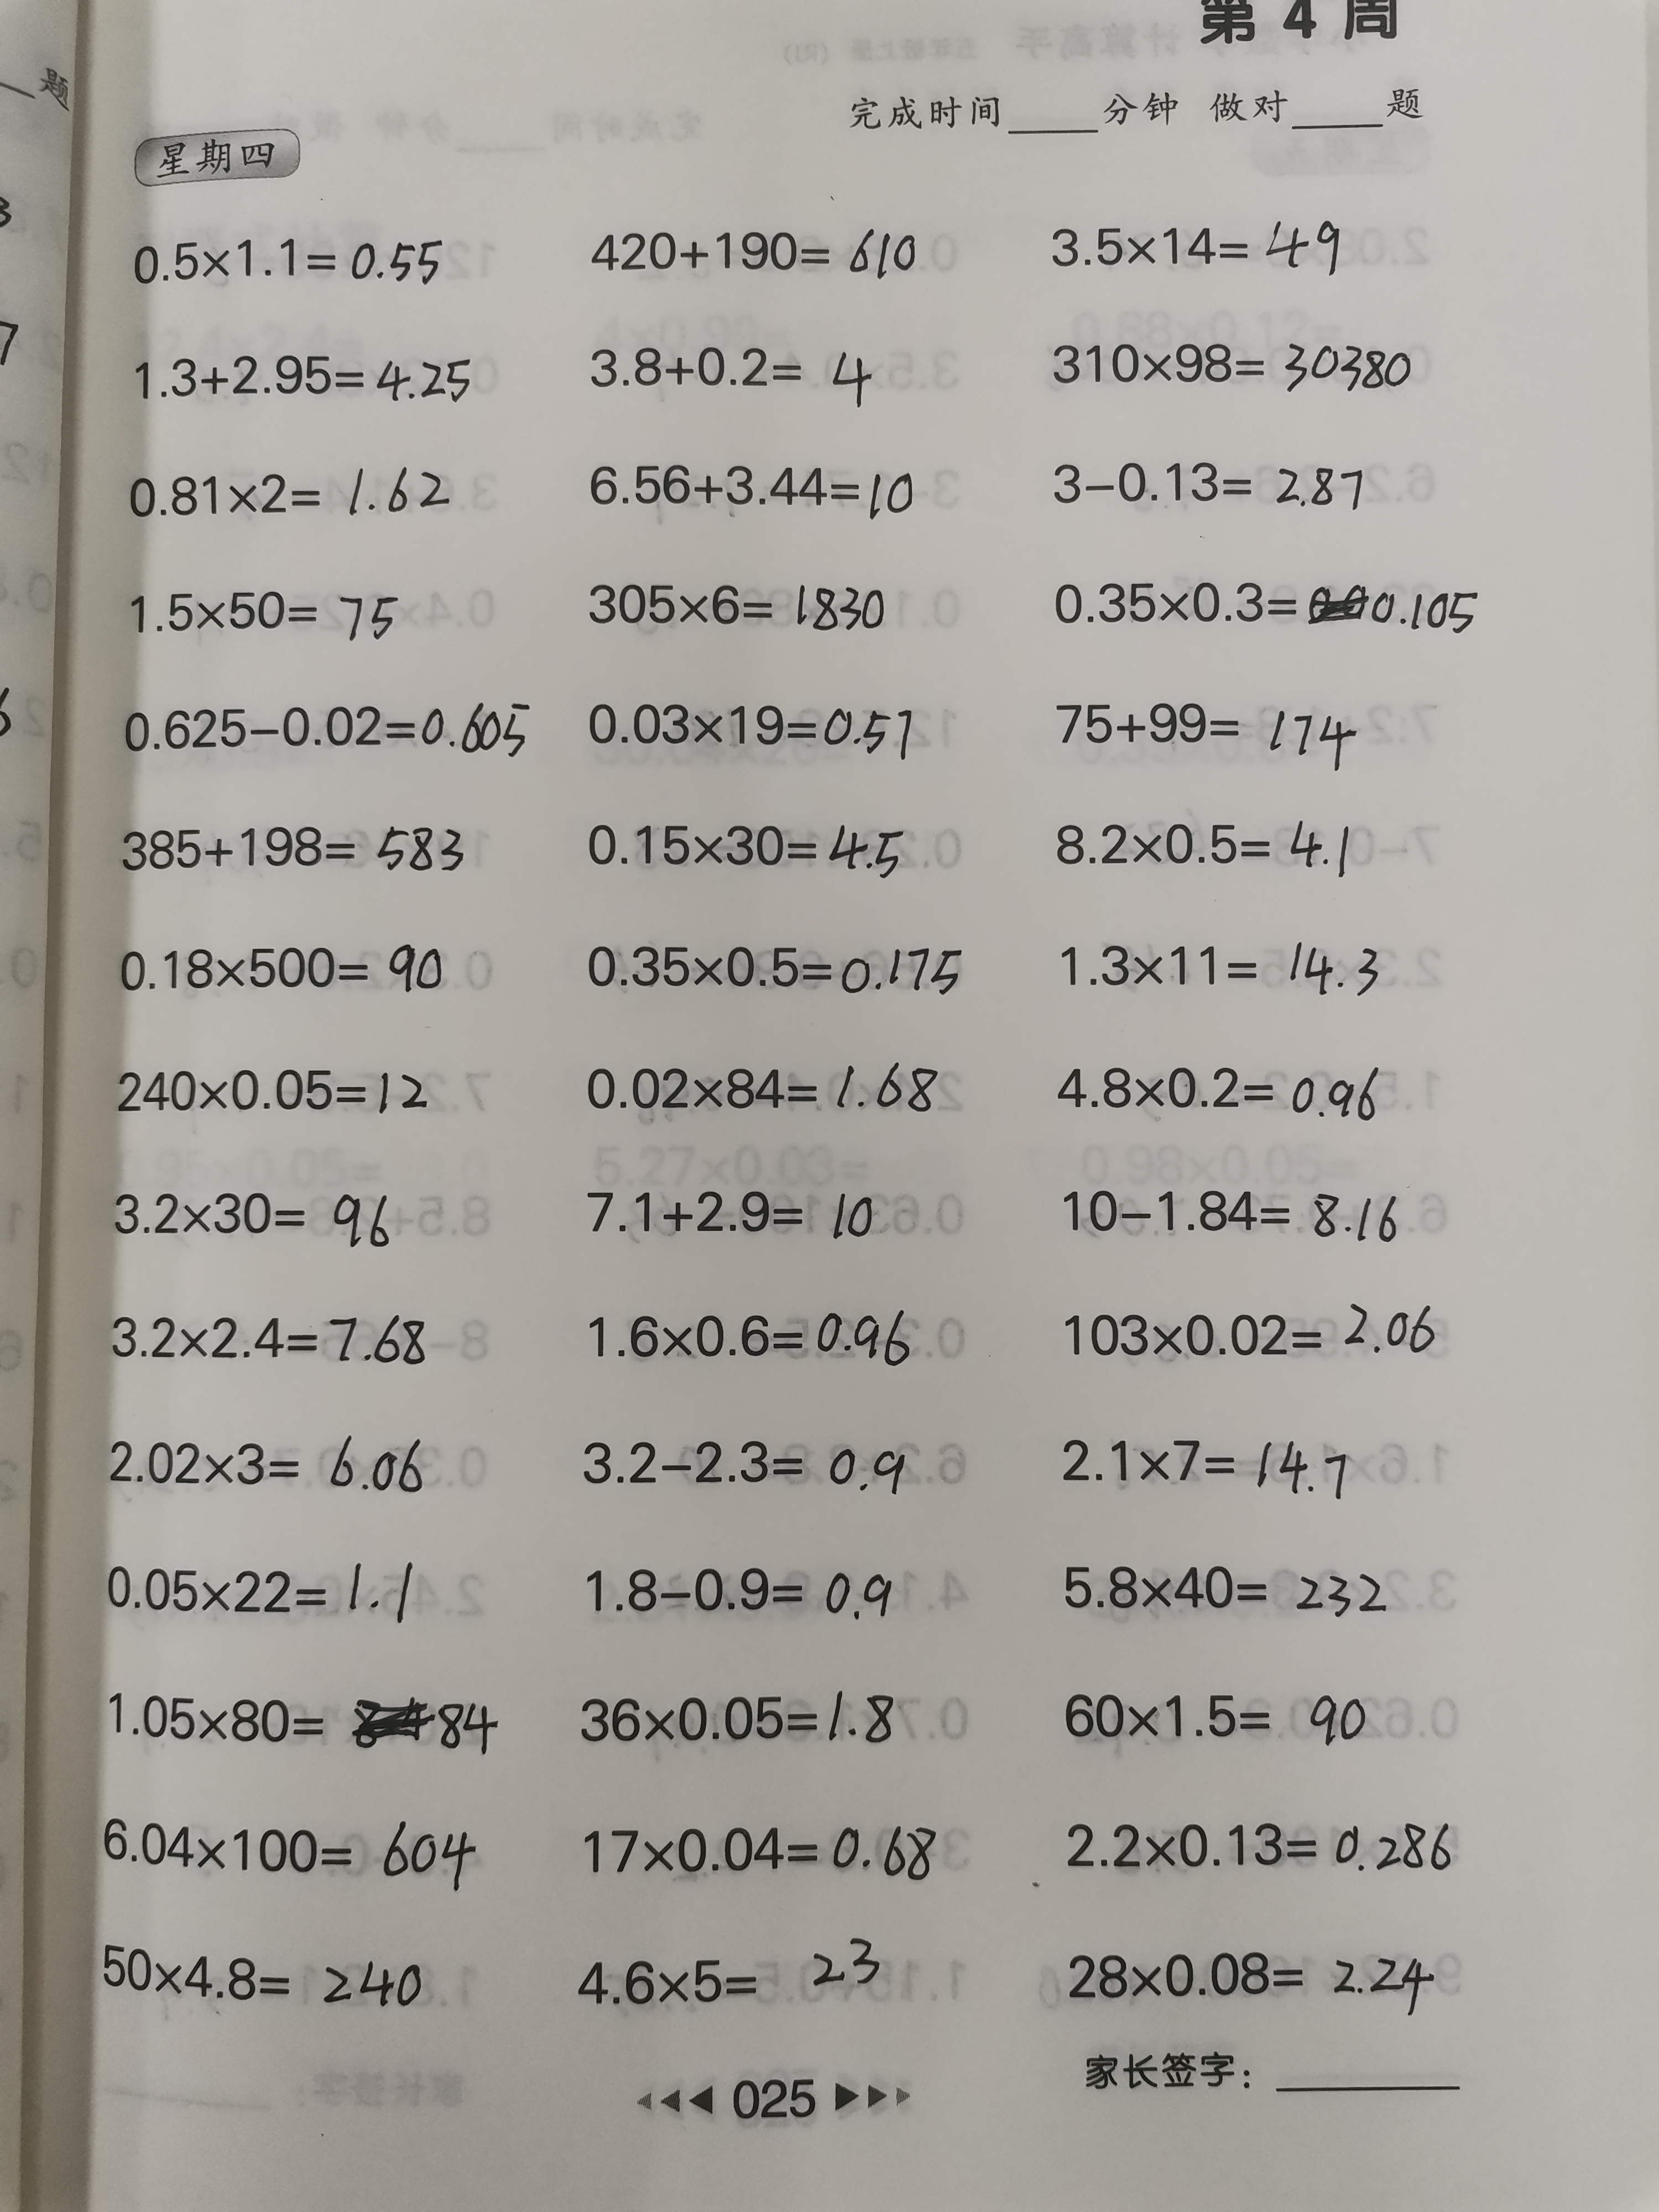equation: (94, 1665, 514, 1770), (1040, 556, 1493, 646), (1047, 1806, 1469, 1900), (1037, 1919, 1448, 2015), (575, 1799, 962, 1900), (570, 921, 979, 1015), (98, 1803, 498, 1892), (85, 1925, 439, 2024), (572, 439, 943, 533), (572, 801, 943, 895), (559, 1919, 904, 2020), (566, 1289, 929, 1383), (1040, 914, 1408, 1007), (579, 674, 938, 768), (570, 1538, 927, 1632), (89, 1421, 457, 1512), (1028, 796, 1382, 890), (1026, 320, 1422, 404), (1051, 1042, 1408, 1134), (1056, 1540, 1413, 1632), (117, 688, 537, 766), (110, 801, 486, 888), (565, 1670, 929, 1759), (565, 1163, 913, 1256), (570, 1050, 953, 1134), (1033, 442, 1394, 531), (1046, 1172, 1427, 1256), (84, 1543, 439, 1632), (1040, 1416, 1375, 1510), (85, 1294, 453, 1379), (575, 212, 939, 298), (99, 1042, 451, 1129), (575, 564, 934, 650), (570, 1430, 929, 1512), (1033, 207, 1375, 293), (122, 338, 484, 418), (1054, 1294, 1455, 1366), (1040, 681, 1375, 766), (1060, 1670, 1389, 1756), (99, 1170, 420, 1256), (108, 927, 457, 1003), (113, 453, 458, 528), (110, 573, 432, 653), (124, 218, 457, 293), (580, 331, 885, 406)
